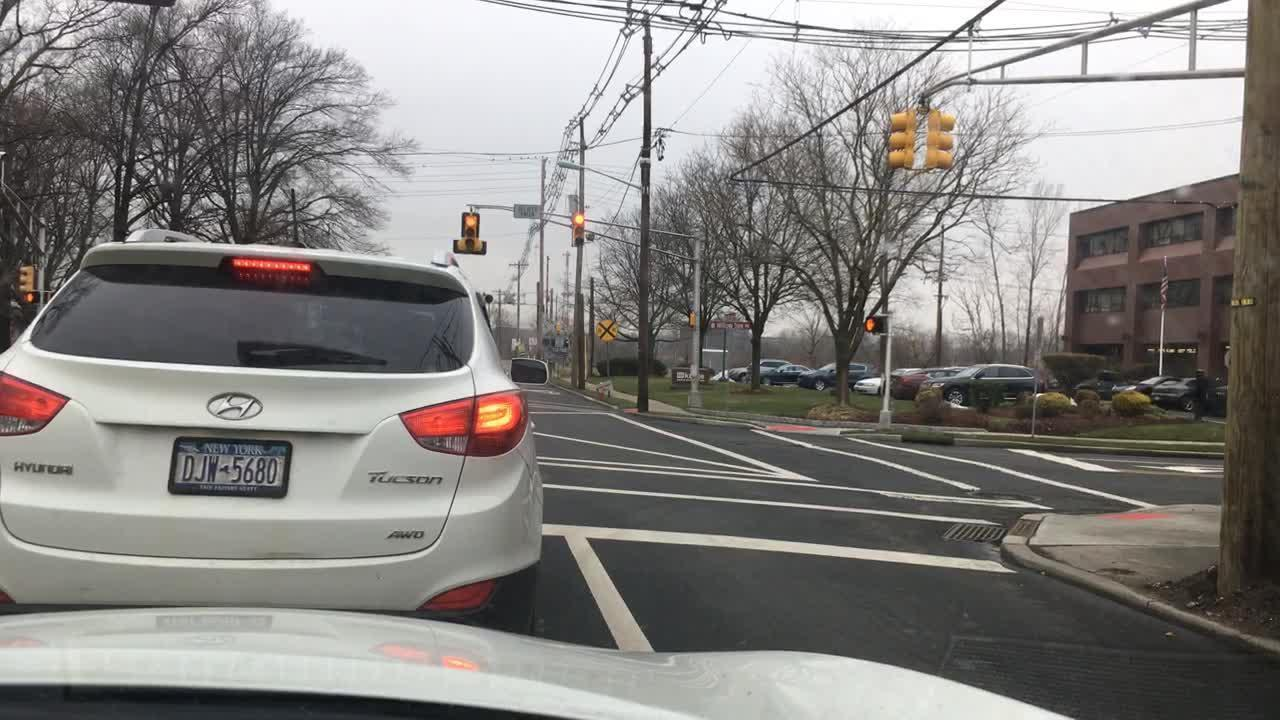Hyundai: (181, 378, 278, 444)
